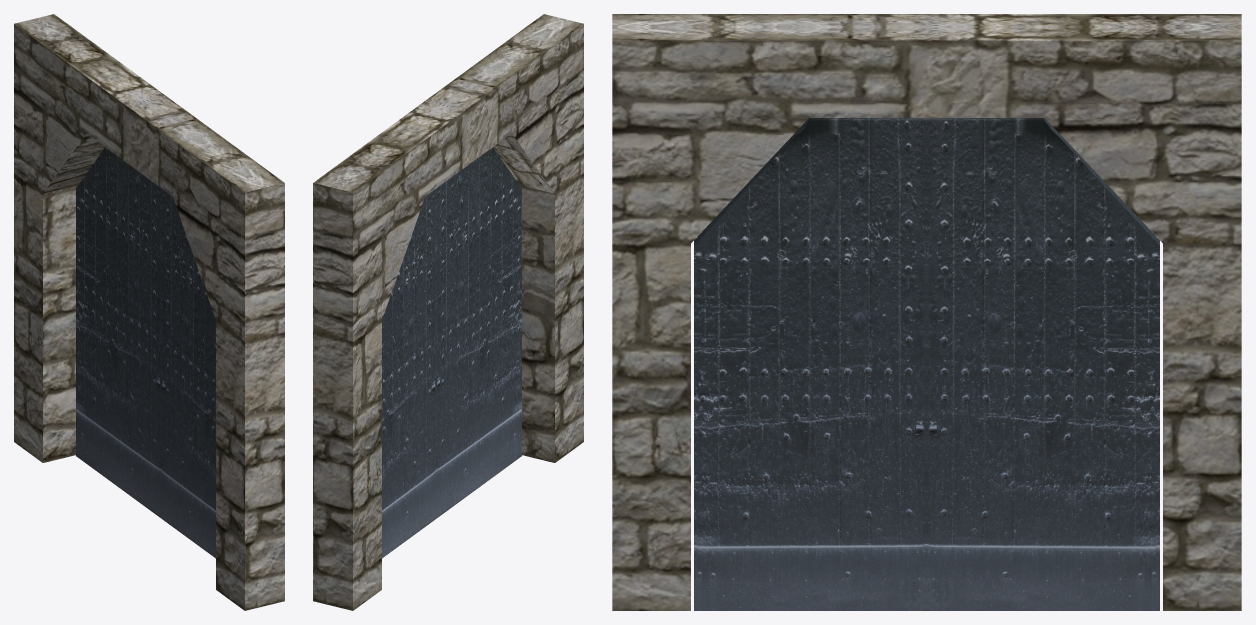
The model's file is fixeddoor.fbx.
3 renders of one model, left to right at view 1: azimuth 30°, elevation 25°; view 2: azimuth 150°, elevation 25°; view 3: azimuth 270°, elevation 25°, orthographic. The views are drawn at different scales.
Visible parts, largest first — view 1: Arch2, Door2, Door1; view 2: Arch2, Door1, Door2; view 3: Arch2, Door2, Door1.
Part boxes in pixels (<box>): Arch2: <box>14,14,284,610</box>; Door2: <box>76,147,161,517</box>; Door1: <box>161,188,215,558</box>; Arch2: <box>313,14,583,610</box>; Door1: <box>436,147,521,517</box>; Door2: <box>382,188,436,558</box>; Arch2: <box>612,14,1241,610</box>; Door2: <box>927,118,1159,610</box>; Door1: <box>694,118,926,610</box>.
Bounding box in the file's own units: 0.5 × 5 × 5.
